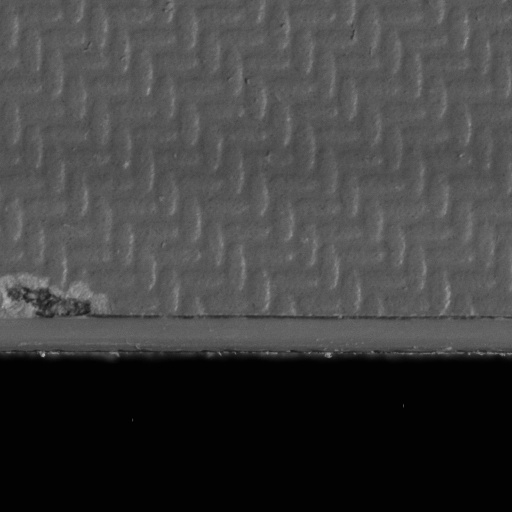bengque: (2, 272, 97, 321)
